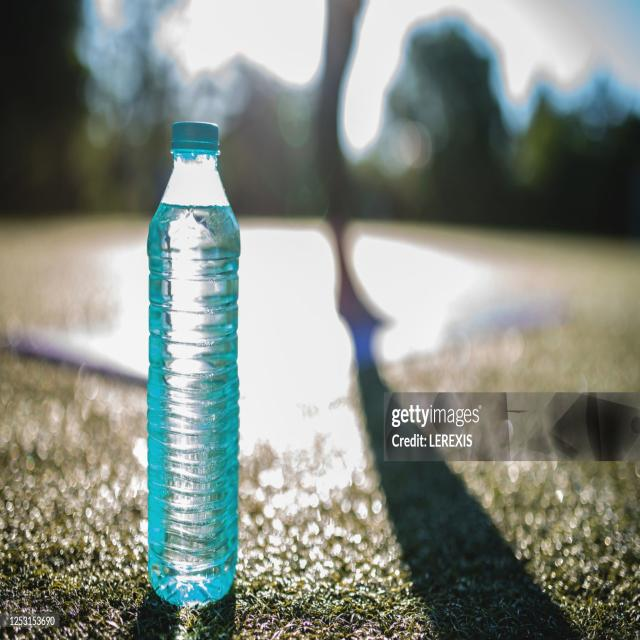bottle: (137, 125, 241, 610)
